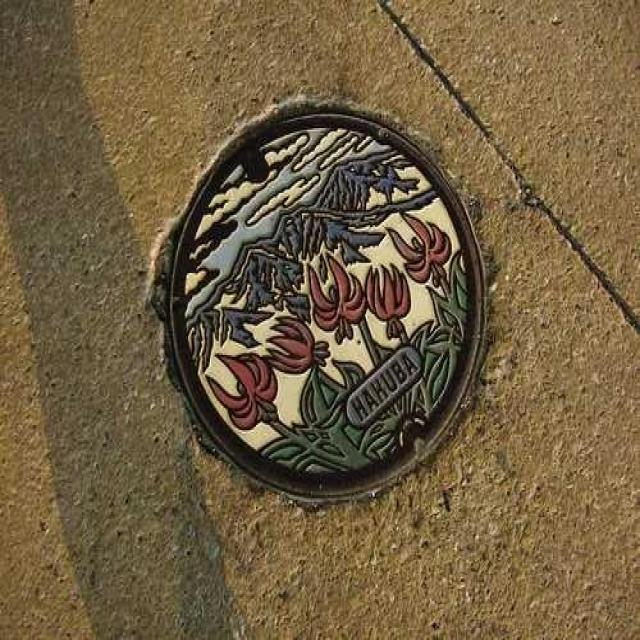manhole: (153, 98, 485, 503)
